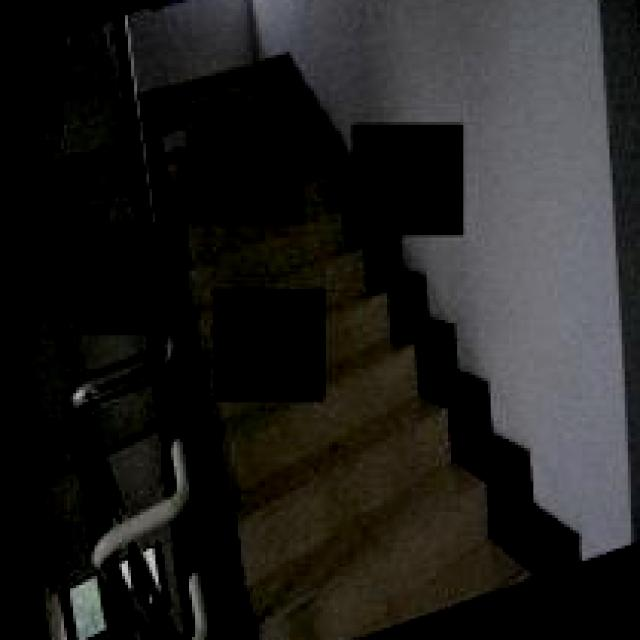upstair: (208, 413, 562, 617)
